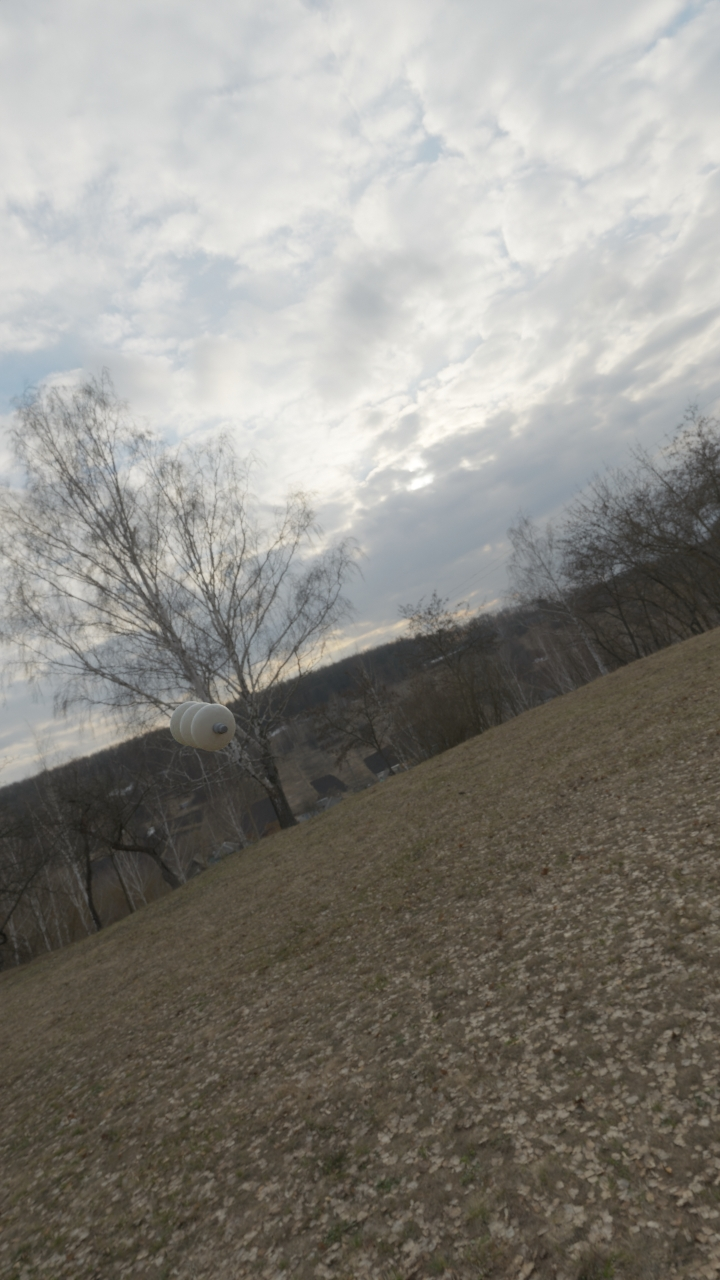ceramicinsulators: (169, 702, 235, 751)
